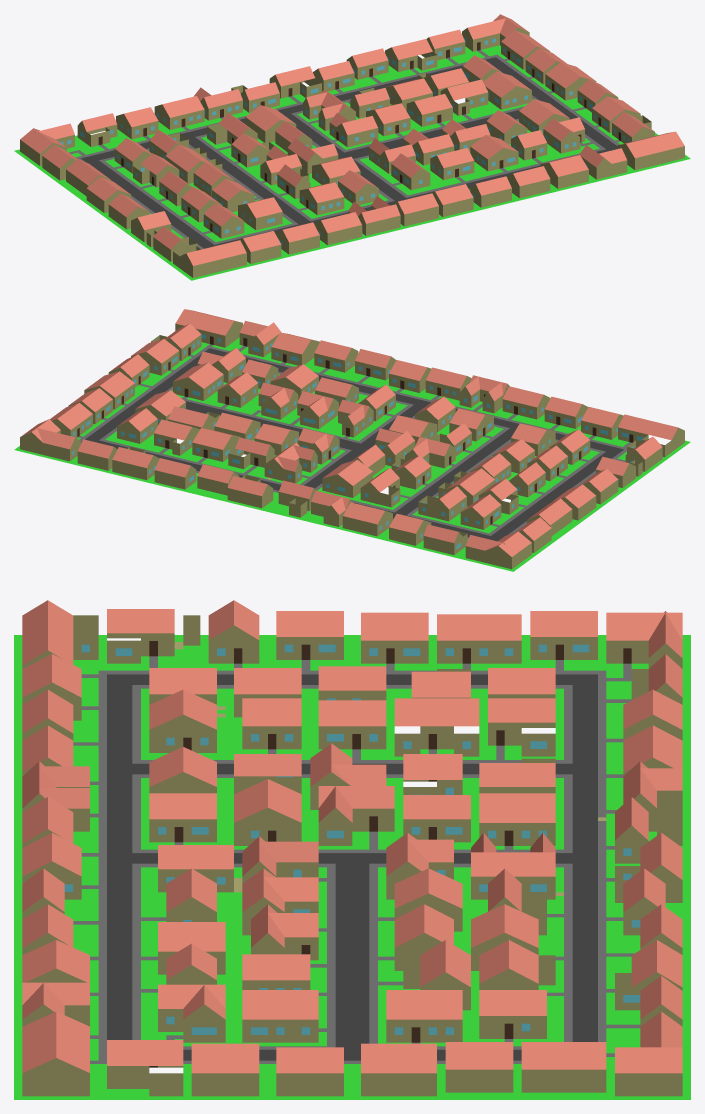
The model's file is City.glb.
The picture shows the model from 3 angles, top to bottom: view 1: azimuth 30°, elevation 25°; view 2: azimuth 150°, elevation 25°; view 3: azimuth 270°, elevation 25°; orthographic projection. The views are drawn at different scales.
Parts seen in each view (by area): view 1: Plane, Roof.018, Roof.040, Roof.006, Roof.019, Roof.015, Roof.025, Roof.034, Roof.010, Roof.008, Roof.011, Roof.012 (+57 smaller); view 2: Plane, Roof.018, Roof.040, Roof.019, Roof.025, Roof.006, Roof.015, Roof.034, Roof.010, Roof.008, Roof.012, Roof.023 (+52 smaller); view 3: Plane, Roof.018, Roof.040, Roof.010, Roof.021, Roof.023, Roof.008, Roof.017, Roof.015, Roof.006, Roof.019, Roof.025 (+78 smaller).
Part boxes in pixels (x1,y1,x2,y2): Plane: (14, 32, 690, 280); Roof.018: (617, 131, 684, 158); Roof.040: (180, 240, 246, 265); Roof.006: (483, 71, 531, 97); Roof.019: (519, 99, 568, 125); Roof.015: (546, 62, 595, 88); Roof.025: (246, 105, 295, 131); Roof.034: (470, 135, 518, 159); Roof.010: (166, 144, 213, 171); Roof.008: (501, 30, 549, 57); Roof.011: (155, 96, 204, 117); Roof.012: (592, 96, 639, 120); Plane: (14, 323, 690, 571); Roof.018: (175, 309, 242, 335); Roof.040: (618, 414, 684, 440); Roof.019: (173, 362, 223, 388); Roof.025: (322, 459, 372, 485); Roof.006: (136, 390, 185, 416); Roof.015: (84, 371, 134, 397); Roof.034: (271, 364, 318, 388); Roof.010: (446, 468, 494, 495); Roof.008: (50, 402, 92, 429); Roof.012: (131, 339, 178, 363); Roof.023: (271, 332, 319, 354); Plane: (14, 615, 690, 1099); Roof.018: (22, 1011, 89, 1073); Roof.040: (22, 600, 73, 665); Roof.010: (394, 698, 479, 726); Roof.021: (234, 779, 301, 822); Roof.023: (22, 940, 89, 982); Roof.008: (521, 1042, 606, 1069); Roof.017: (471, 904, 538, 947); Roof.015: (361, 1043, 436, 1073); Roof.006: (386, 990, 462, 1019); Roof.019: (242, 990, 318, 1019); Roof.025: (479, 793, 555, 822).
Bounding box in the file's own units: 130 × 5.05 × 80.
